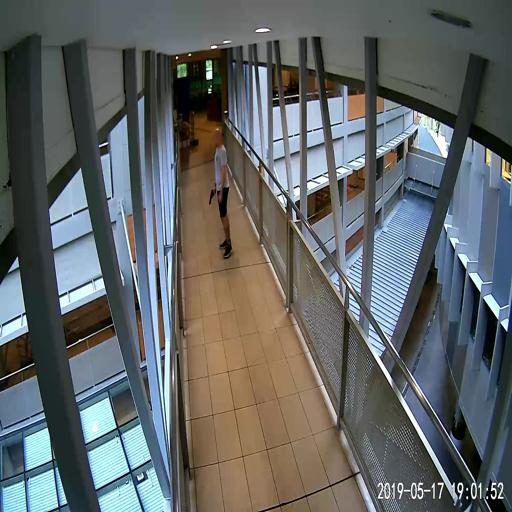pistol: (209, 188, 215, 204)
